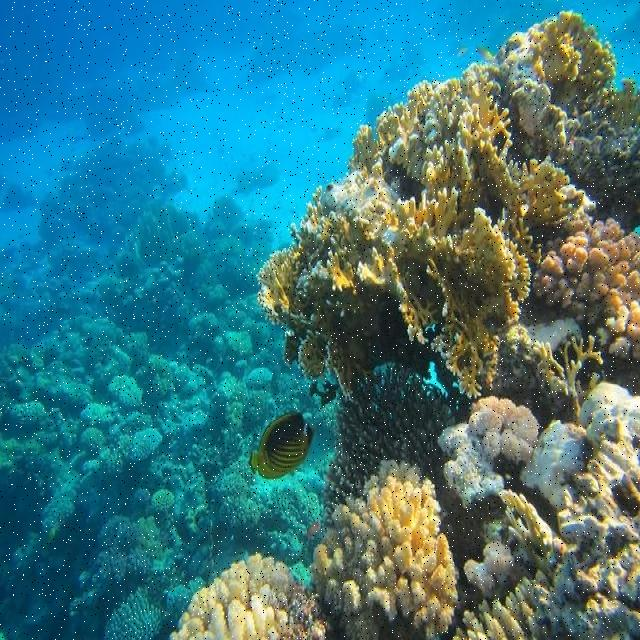fish: (248, 412, 314, 480)
reefs: (168, 10, 639, 639)
